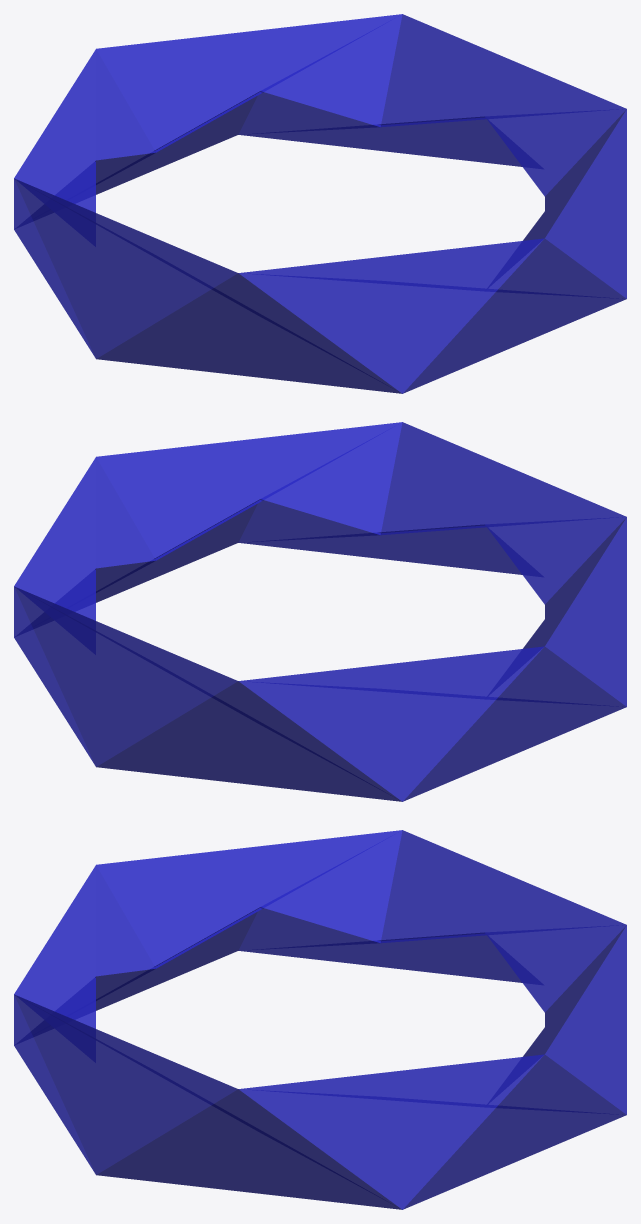
Rendered from fractalhexagonalantiprismtrapezohedrontoroid0.glb.
3 renders of one model, top to bottom at view 1: azimuth 30°, elevation 25°; view 2: azimuth 150°, elevation 25°; view 3: azimuth 270°, elevation 25°, orthographic.
Size of the model in its own units: 9.27 by 2.02 by 9.27.
